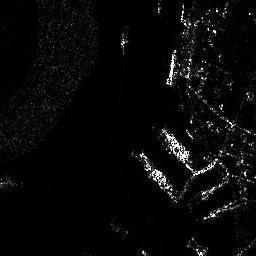ship: (133, 148, 180, 204), (155, 122, 190, 171), (164, 48, 179, 87)
